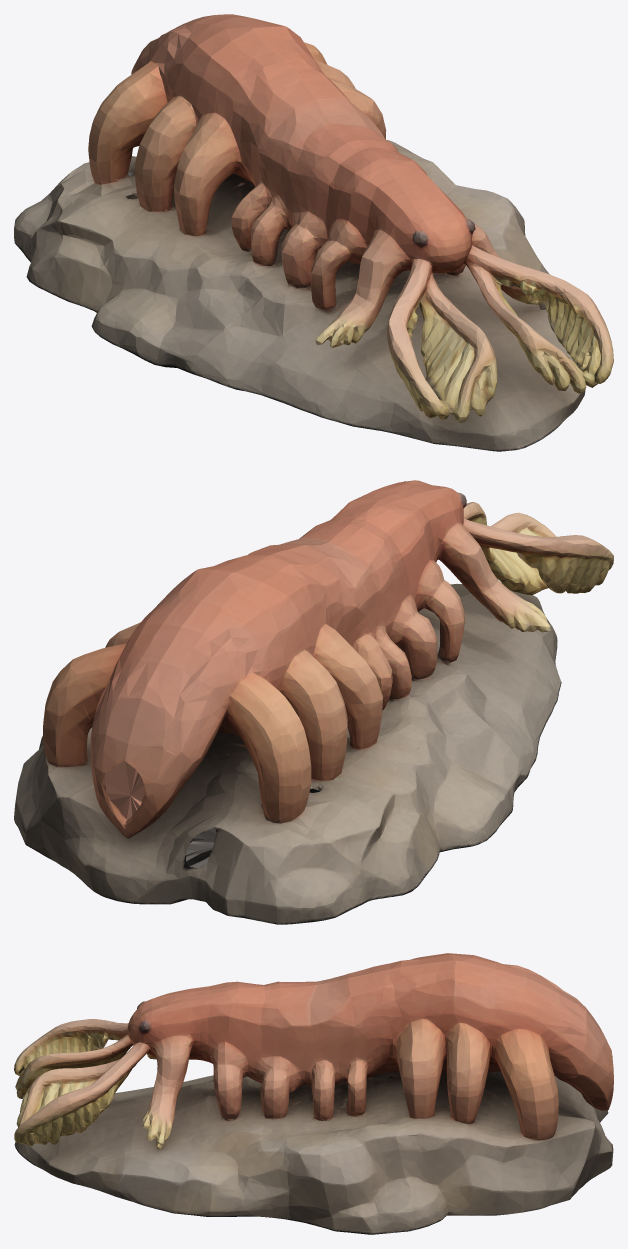
3 renders of one model, top to bottom at view 1: azimuth 30°, elevation 25°; view 2: azimuth 150°, elevation 25°; view 3: azimuth 270°, elevation 25°, orthographic. The views are drawn at different scales.
Visible parts, largest first — view 1: world; view 2: world; view 3: world.
Boxes of the visible parts, x1,y1,x2,y2 form: world: [14, 14, 613, 451]; world: [14, 480, 613, 924]; world: [14, 953, 613, 1234].
Size of the model in its own units: 0.0381 by 0.0216 by 0.06.
Materials: 1 (1 with a texture image).
